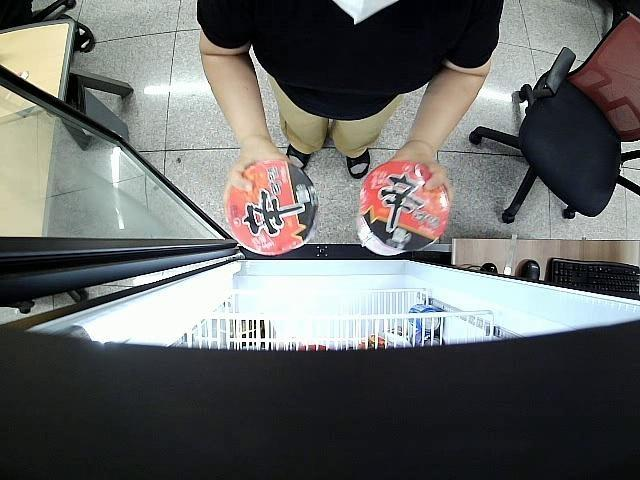01_ShinRamen_L: (226, 162, 318, 256), (358, 162, 449, 256)
